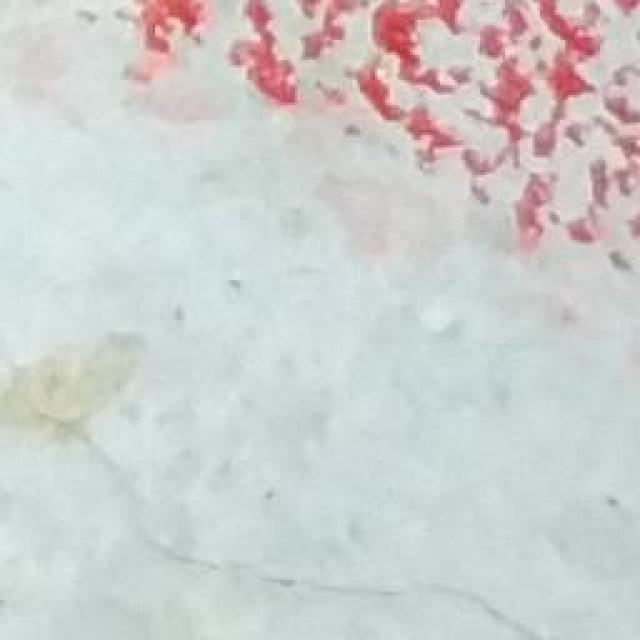Diagonal: (0, 337, 564, 639)
